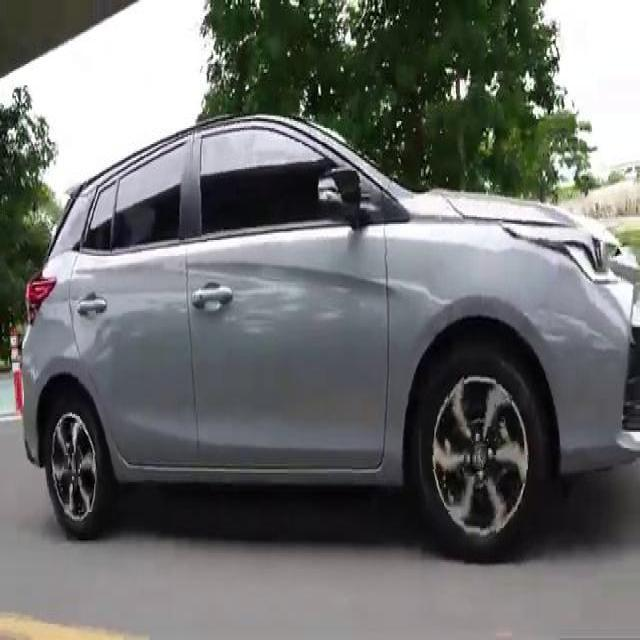Hatchback: (22, 117, 639, 562)
